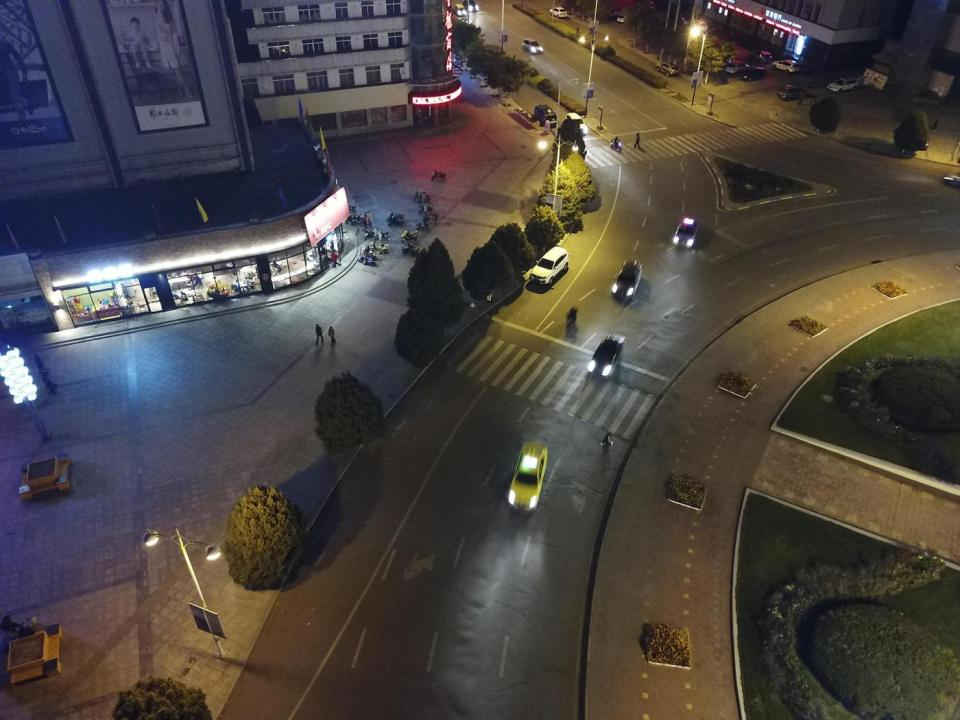car: (508, 441, 548, 513), (529, 246, 569, 285), (588, 332, 623, 375), (612, 261, 641, 303), (672, 215, 696, 248), (826, 76, 858, 92), (772, 58, 801, 74), (778, 85, 807, 101), (738, 66, 766, 82), (655, 63, 679, 78), (522, 37, 542, 54), (748, 50, 772, 63), (667, 10, 689, 24), (725, 61, 749, 73), (549, 6, 568, 19), (462, 1, 479, 12), (641, 1, 655, 12), (617, 14, 633, 22)
van: (534, 104, 558, 128), (566, 113, 588, 137), (454, 4, 466, 17)
